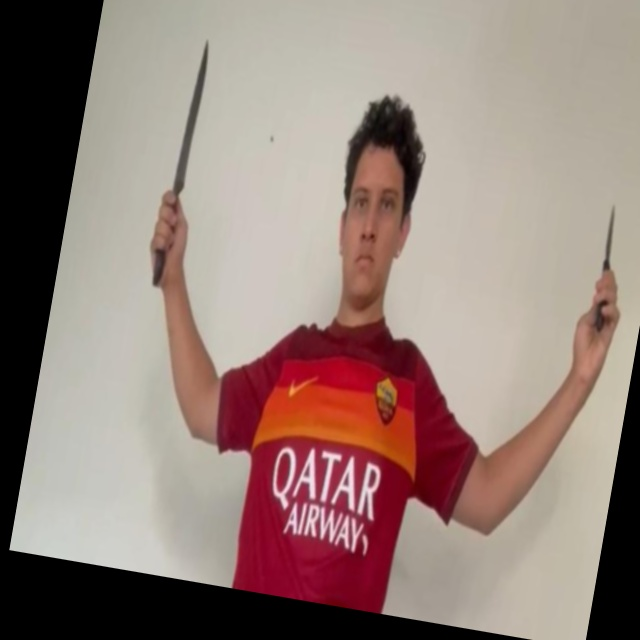Sharp-Object: (173, 36, 212, 196), (602, 205, 621, 263)
